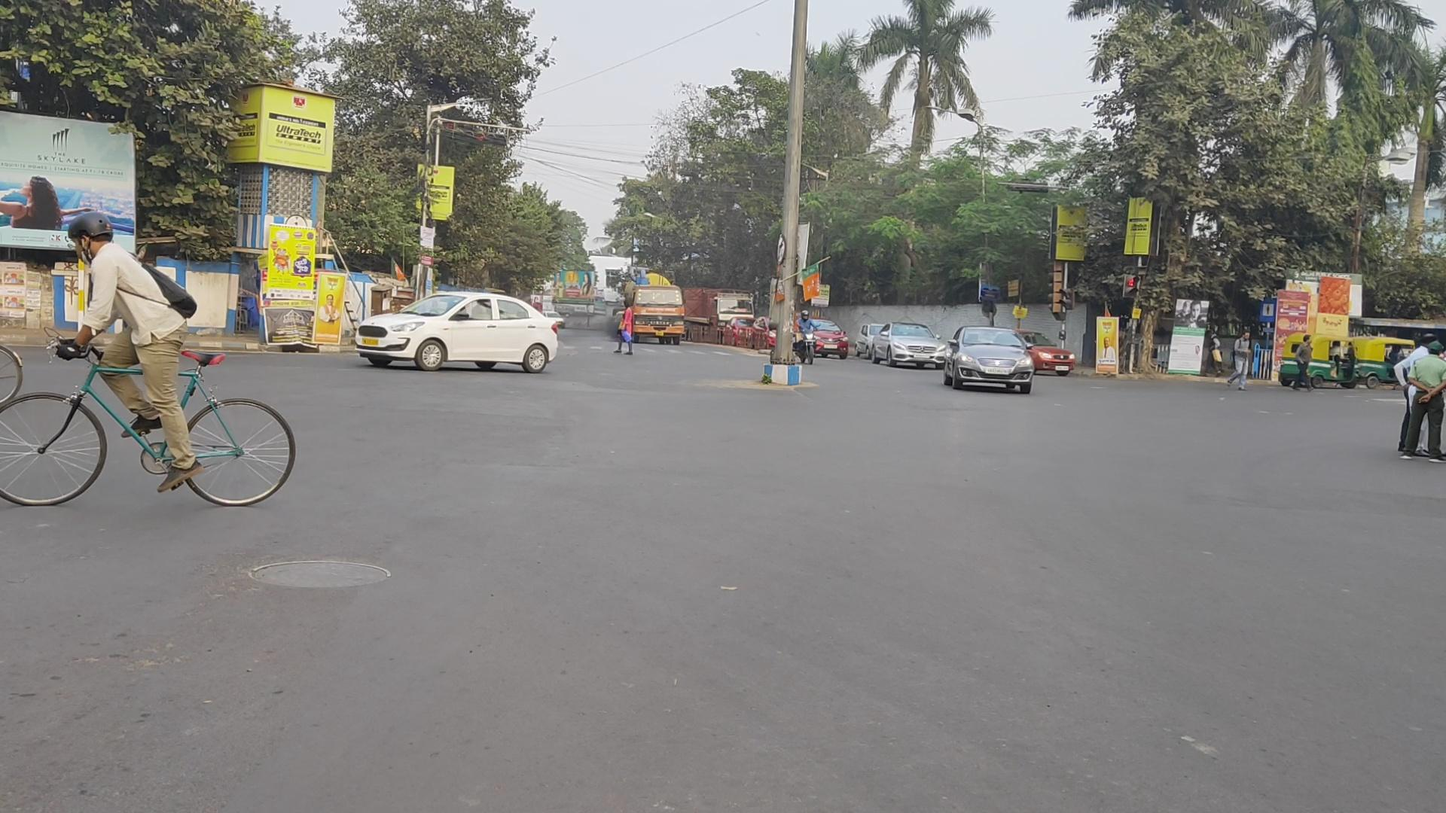Auto: (1278, 333, 1359, 390), (1355, 336, 1417, 389)
bike: (2, 212, 299, 506), (795, 310, 820, 365)
car: (355, 291, 560, 374), (944, 324, 1033, 394), (871, 321, 947, 371), (1014, 327, 1075, 377), (809, 318, 849, 360), (855, 323, 890, 360)
truck: (615, 267, 687, 346), (684, 288, 756, 340)
